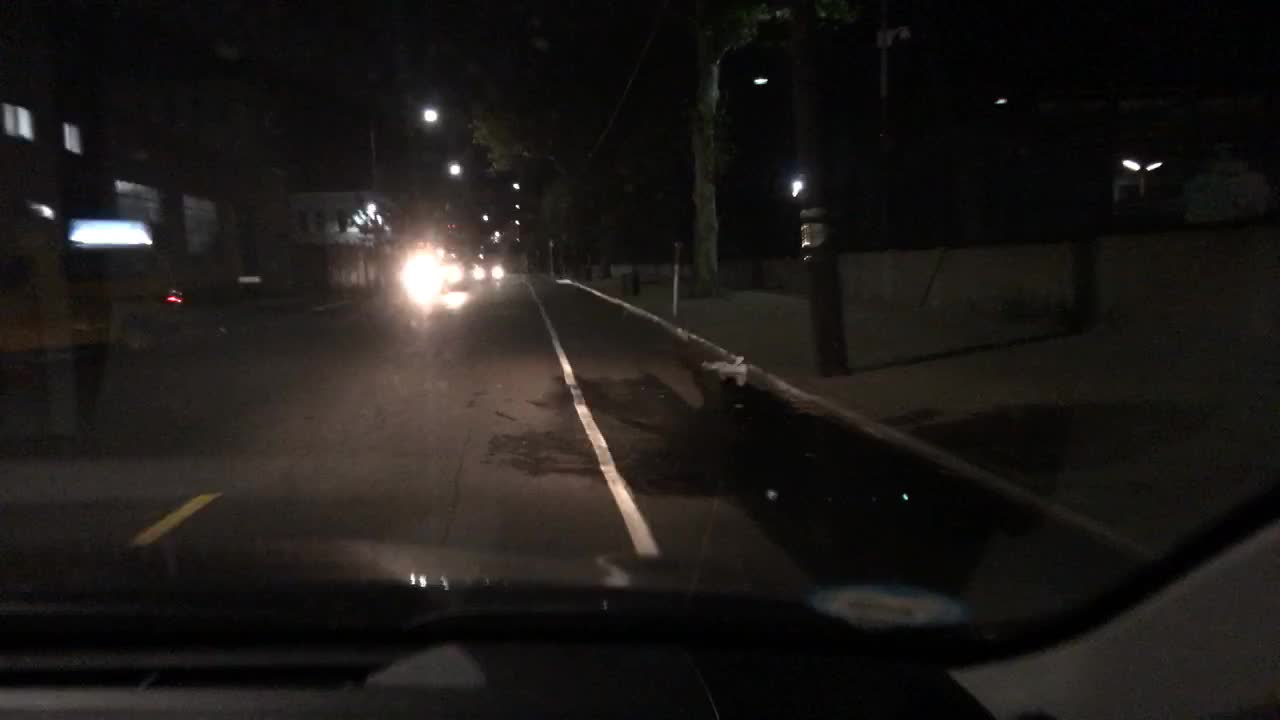car: (0, 191, 185, 351), (400, 259, 433, 293), (432, 260, 465, 293), (469, 262, 502, 284)
